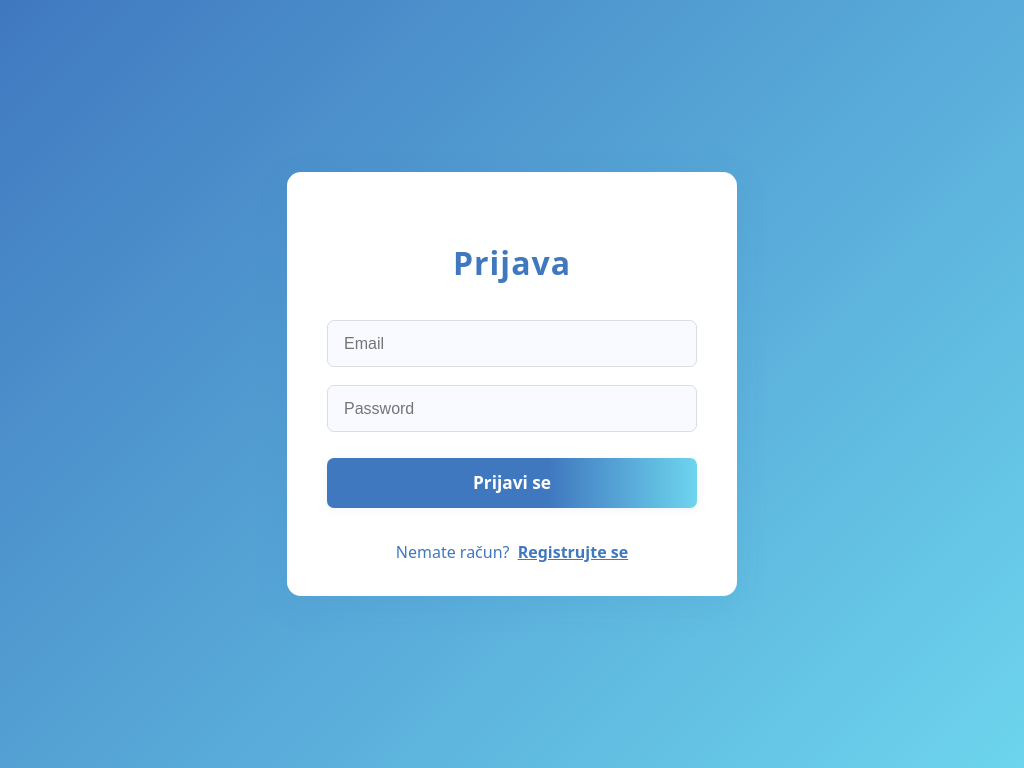
Test case: Auth Flow › shows error on empty login fields
Click the submit button at (512, 483), box [327,458,697,508]
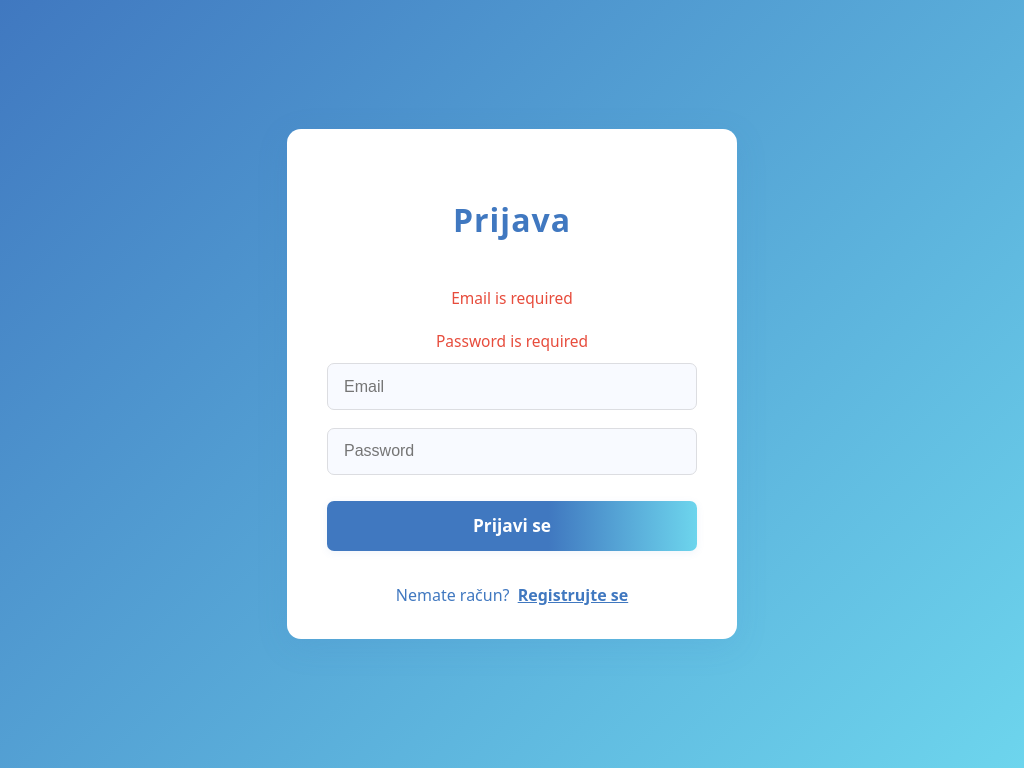
Expected: the text "Email is required" is shown, [451,287,573,309]
Expected: the text "Password is required" is shown, [436,330,588,352]
